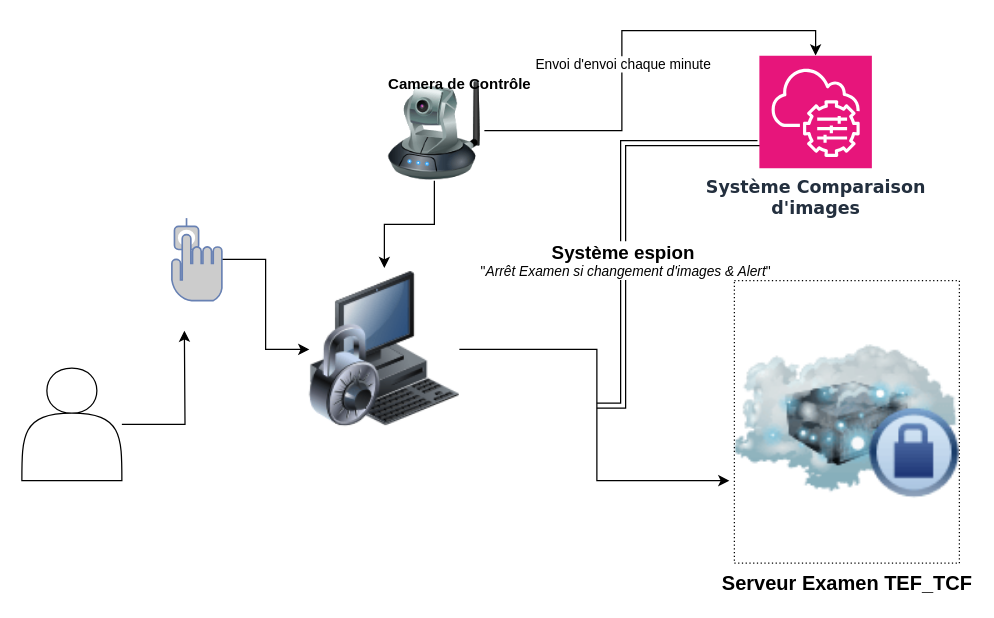
The diagram is 994 pixels wide and 618 high, and some of its shapes have lost their labels. The shapes that lost their labels are listed below. From the top down, each one's centre as x and y in pixels, then its label:
pixel 196 258: Lecteur Biométrique
pixel 71 424: Candidat
